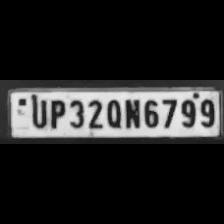2: (84, 96, 104, 130)
3: (66, 97, 84, 129)
6: (141, 96, 159, 128)
7: (159, 96, 177, 128)
9: (196, 96, 216, 128), (178, 96, 196, 128)
N: (122, 96, 140, 130)
P: (46, 97, 66, 129)
Q: (103, 97, 121, 129)
U: (28, 96, 46, 128)
